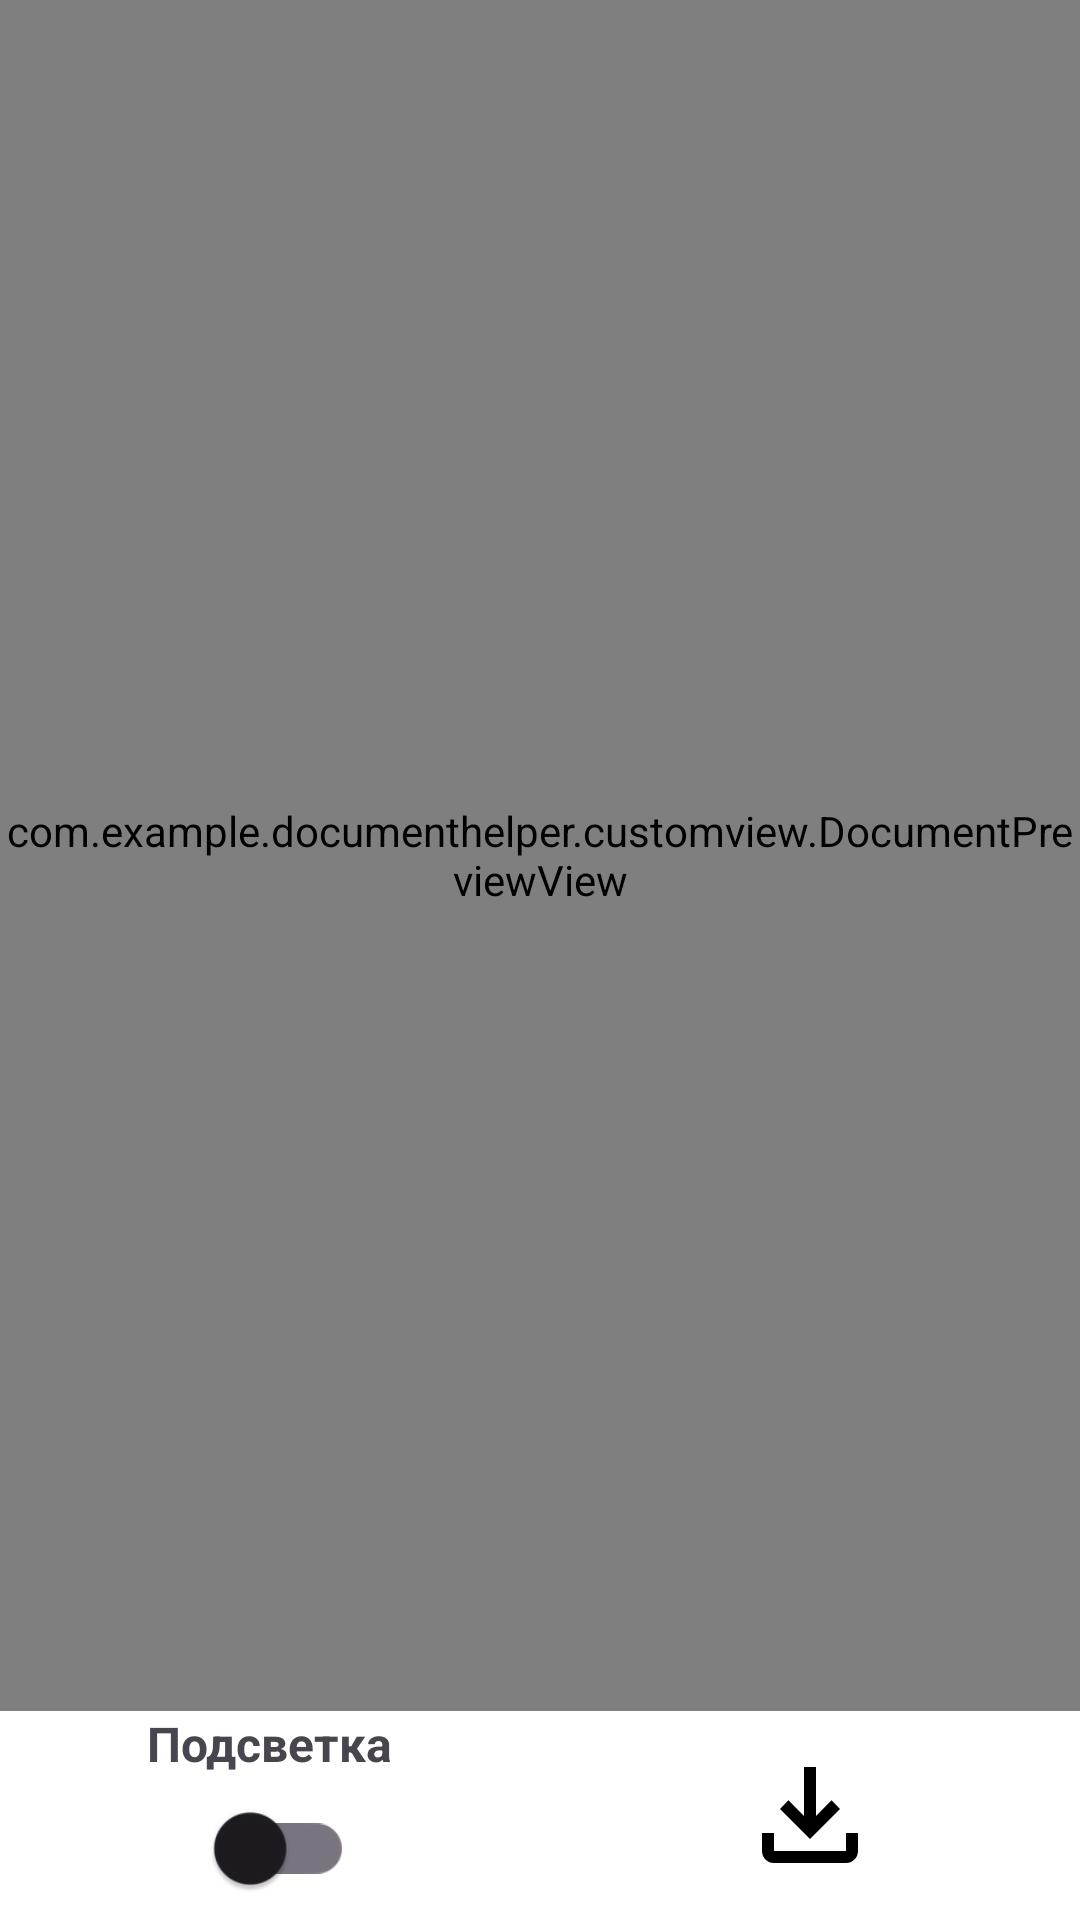

Where to tap for icons on this 1080w x 1920h app screen, as (x,y):
download: (810,1815)
